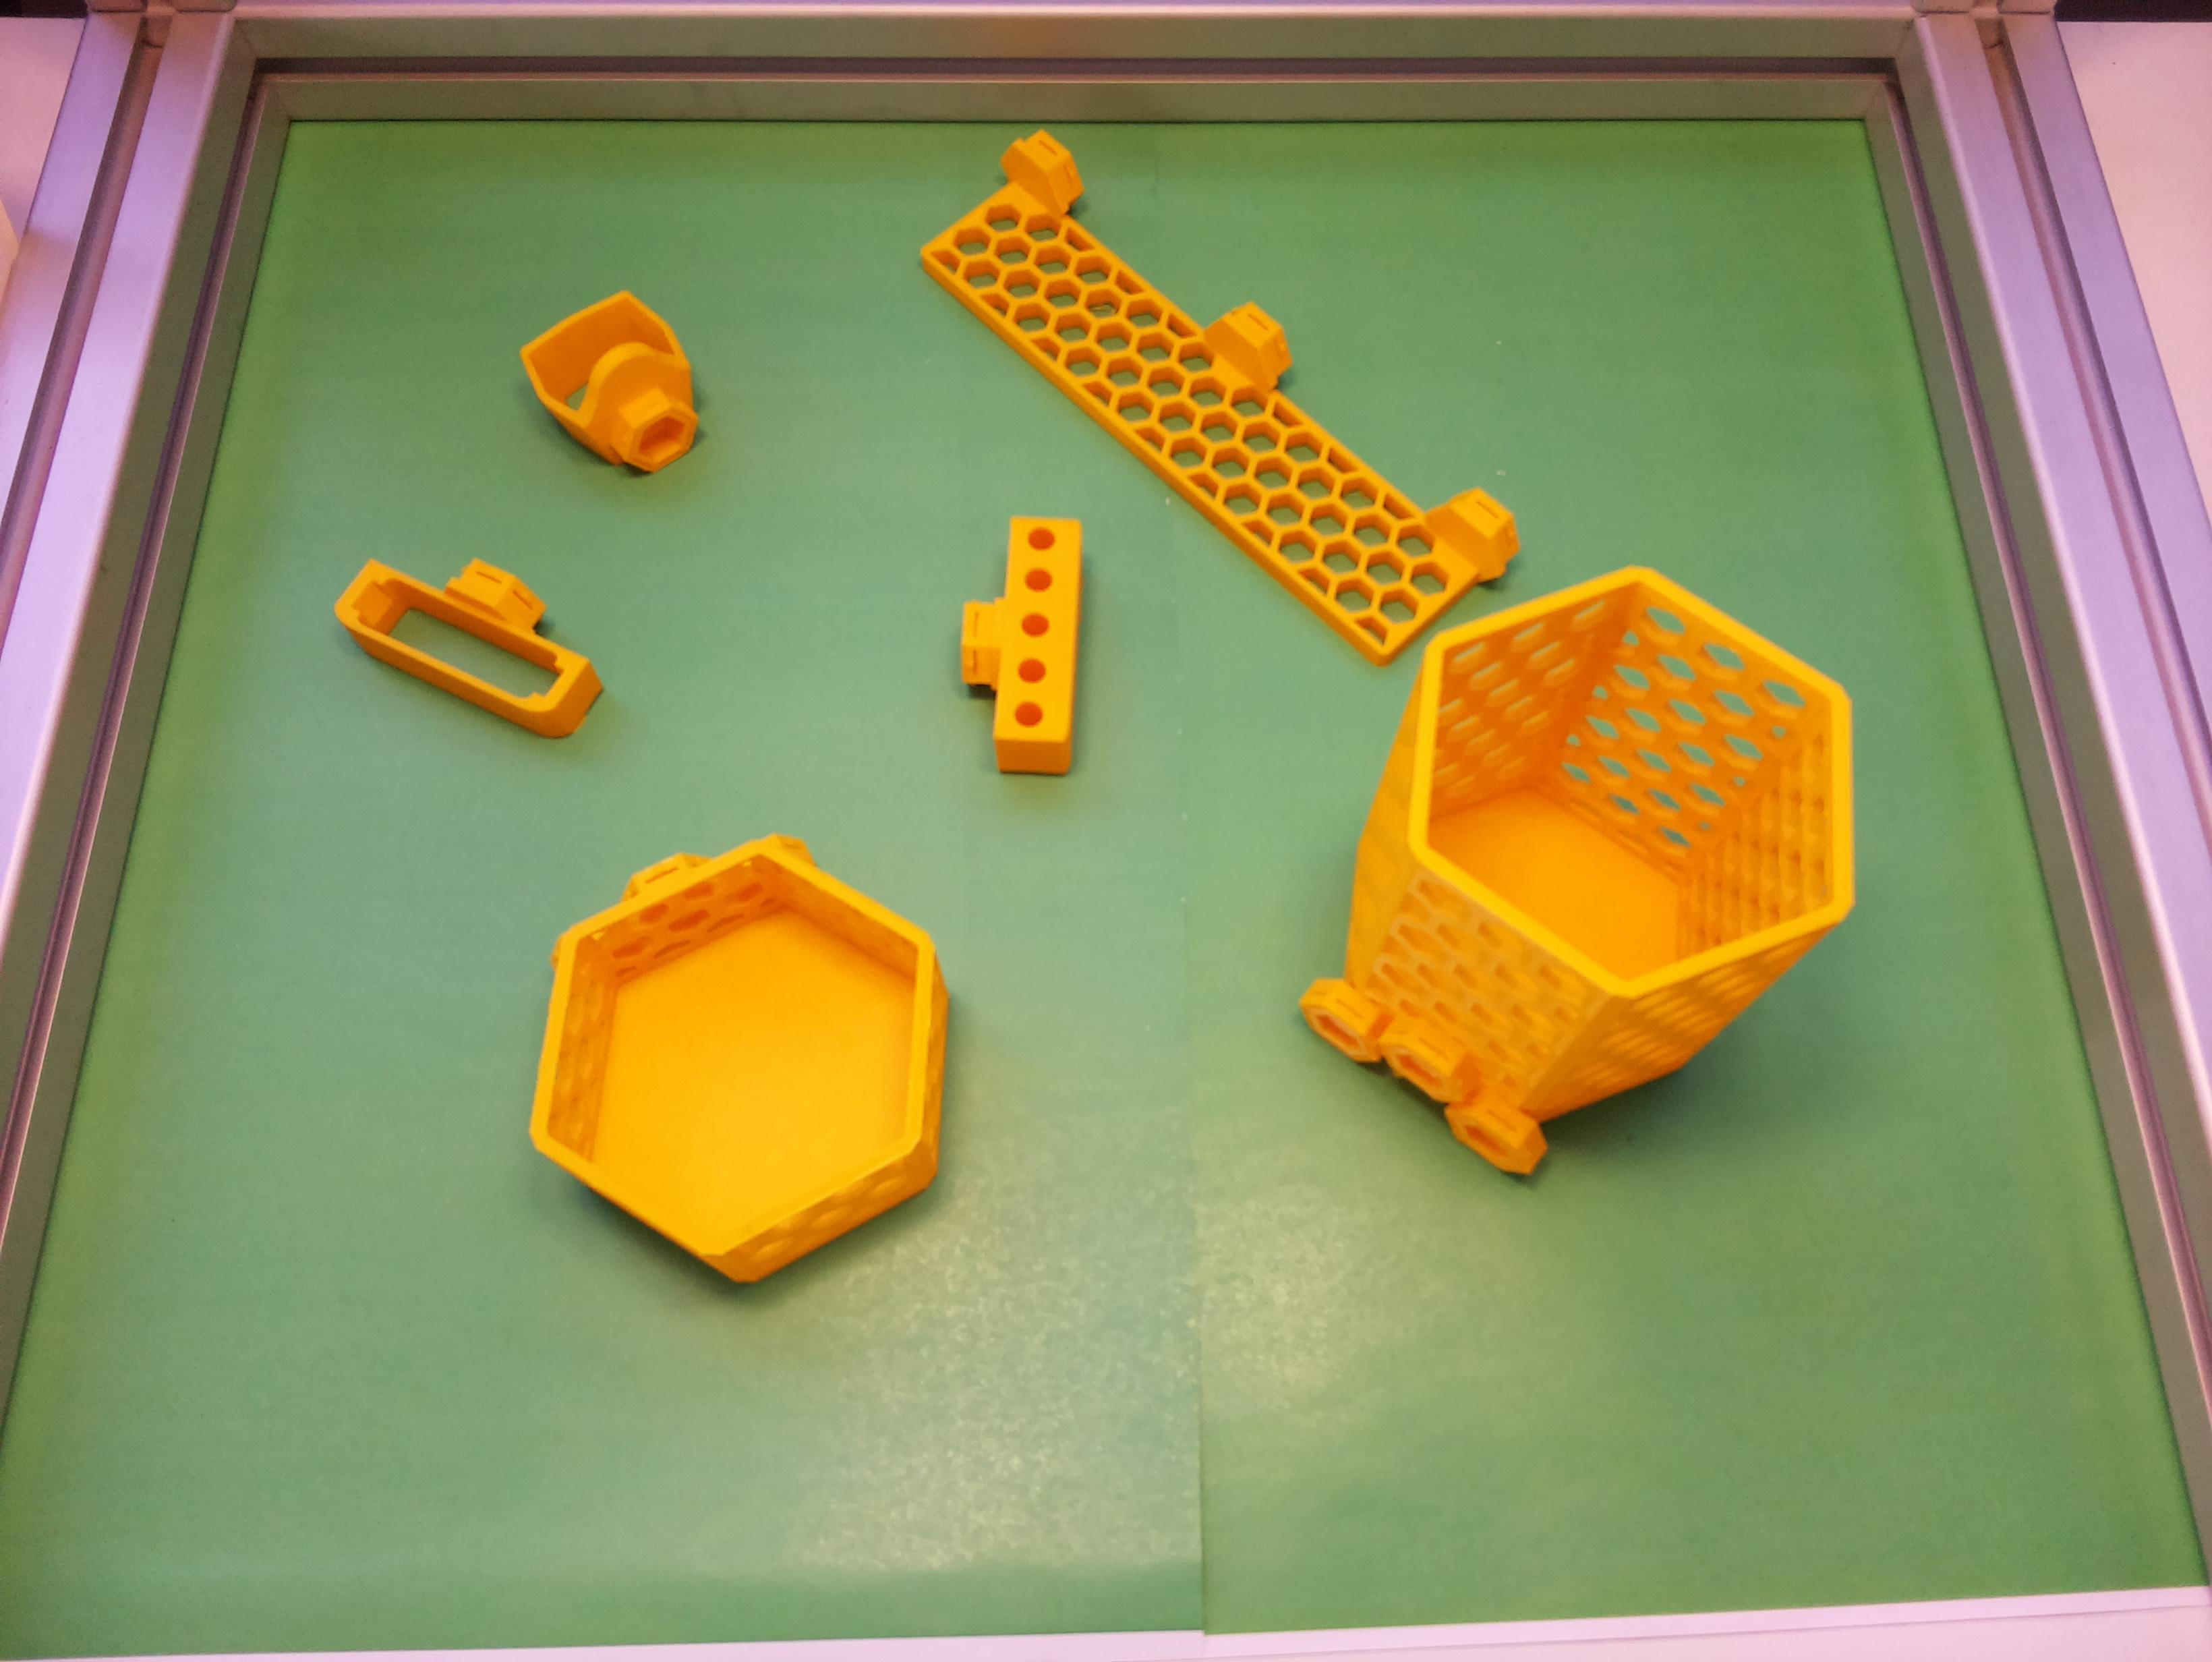bit_holder: (951, 512, 1088, 777)
bottle_holder: (452, 761, 1048, 1346)
cup_holder: (1208, 480, 1950, 1246)
cutter_holder: (319, 512, 630, 751)
scissor_holder: (513, 278, 726, 503)
tool_holder: (901, 117, 1536, 691)
